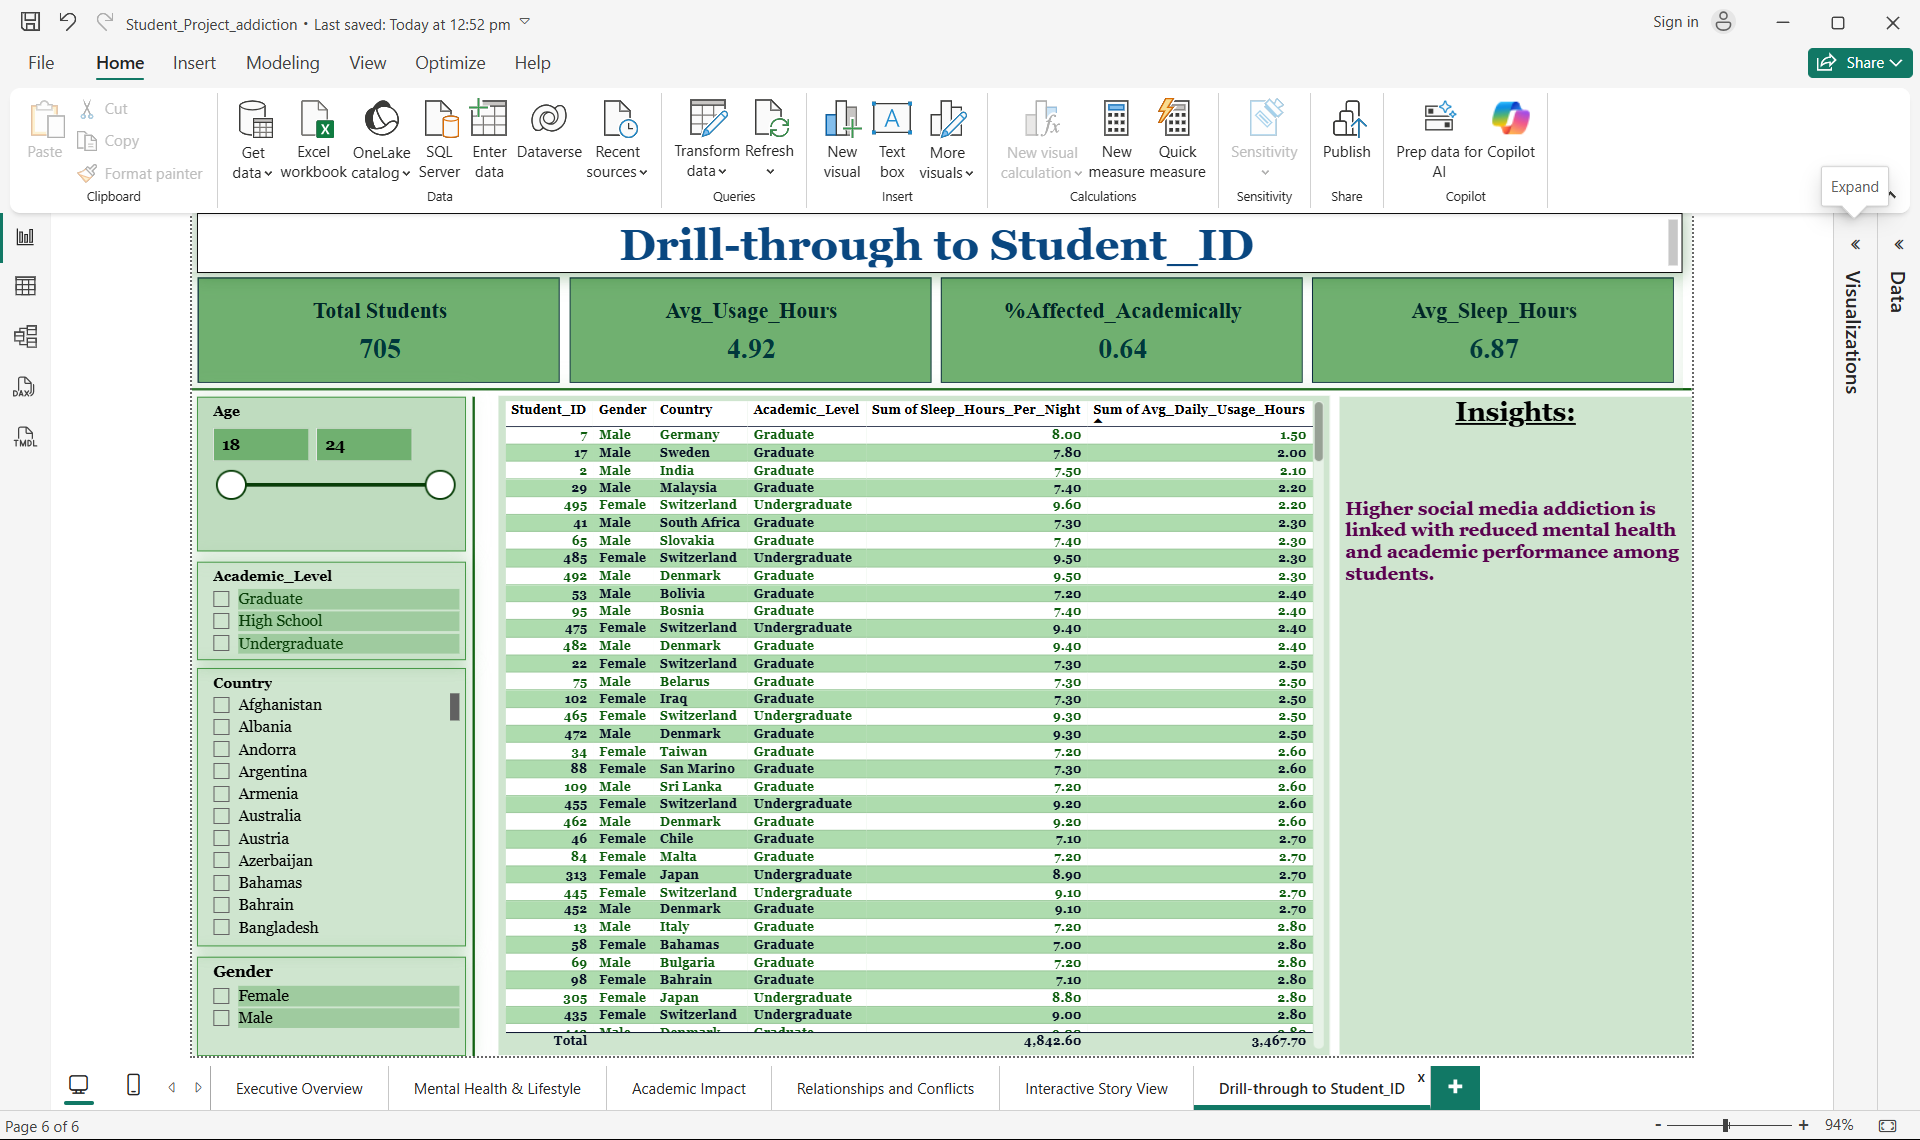

What the dashboard file says about the page in this screenshot:
{"tool":"powerbi","page":{"name":"Drill-through to Student_ID","canvas":[1280,720],"ordinal":5},"visuals":[{"type":"tableEx","fields":{"Values":["Student Details.Student_ID","Student Details.Gender","Student Details.Country","Student Details.Academic_Level","Sum(Student Details.Sleep_Hours_Per_Night)","Sum(Platform Details.Avg_Daily_Usage_Hours)"]},"box":[261.1,156,709.7,562.8],"z":0},{"type":"shape","box":[233.9,157.1,13.6,562.8],"z":1000},{"type":"shape","box":[0,144,1280.4,12.8],"z":2000},{"type":"textbox","title":"Insights:","box":[979.8,157.1,300.6,561.7],"z":3000},{"type":"cardVisual","fields":{"Data":["Student Details.Total Students","Student Details.Avg_Usage_Hours","Student Details.%Affected_Academically","Student Details.Avg_Sleep_Hours"]},"box":[0,49.7,1272.5,100.6],"z":4000},{"type":"textbox","box":[4.5,0,1268,50.9],"z":5000},{"type":"slicer","fields":{"Values":["Student Details.Gender"]},"box":[4.5,635.1,229.4,84.8],"z":6000},{"type":"slicer","fields":{"Values":["Student Details.Country"]},"box":[4.5,388.8,229.4,237.3],"z":7000},{"type":"slicer","fields":{"Values":["Student Details.Academic_Level"]},"box":[4.5,297.2,229.4,83.6],"z":8000},{"type":"slicer","fields":{"Values":["Student Details.Age"]},"box":[4.5,157.1,229.4,132.2],"z":9000}]}

Visuals, with their boxes on the page's 1280x720 design canvas (x1, y1, x2, y2). These are canvas units, not pixel positions in the 1920x1140 screenshot, which may show the page scaled, cropped or inside an application window:
tableEx - Student Details.Student_ID x Student Details.Gender: {"left": 261, "top": 156, "right": 971, "bottom": 719}
shape: {"left": 234, "top": 157, "right": 248, "bottom": 720}
shape: {"left": 0, "top": 144, "right": 1280, "bottom": 157}
"Insights:" textbox: {"left": 980, "top": 157, "right": 1280, "bottom": 719}
cardVisual - Student Details.Total Students x Student Details.Avg_Usage_Hours: {"left": 0, "top": 50, "right": 1272, "bottom": 150}
textbox: {"left": 4, "top": 0, "right": 1272, "bottom": 51}
slicer - Student Details.Gender: {"left": 4, "top": 635, "right": 234, "bottom": 720}
slicer - Student Details.Country: {"left": 4, "top": 389, "right": 234, "bottom": 626}
slicer - Student Details.Academic_Level: {"left": 4, "top": 297, "right": 234, "bottom": 381}
slicer - Student Details.Age: {"left": 4, "top": 157, "right": 234, "bottom": 289}
